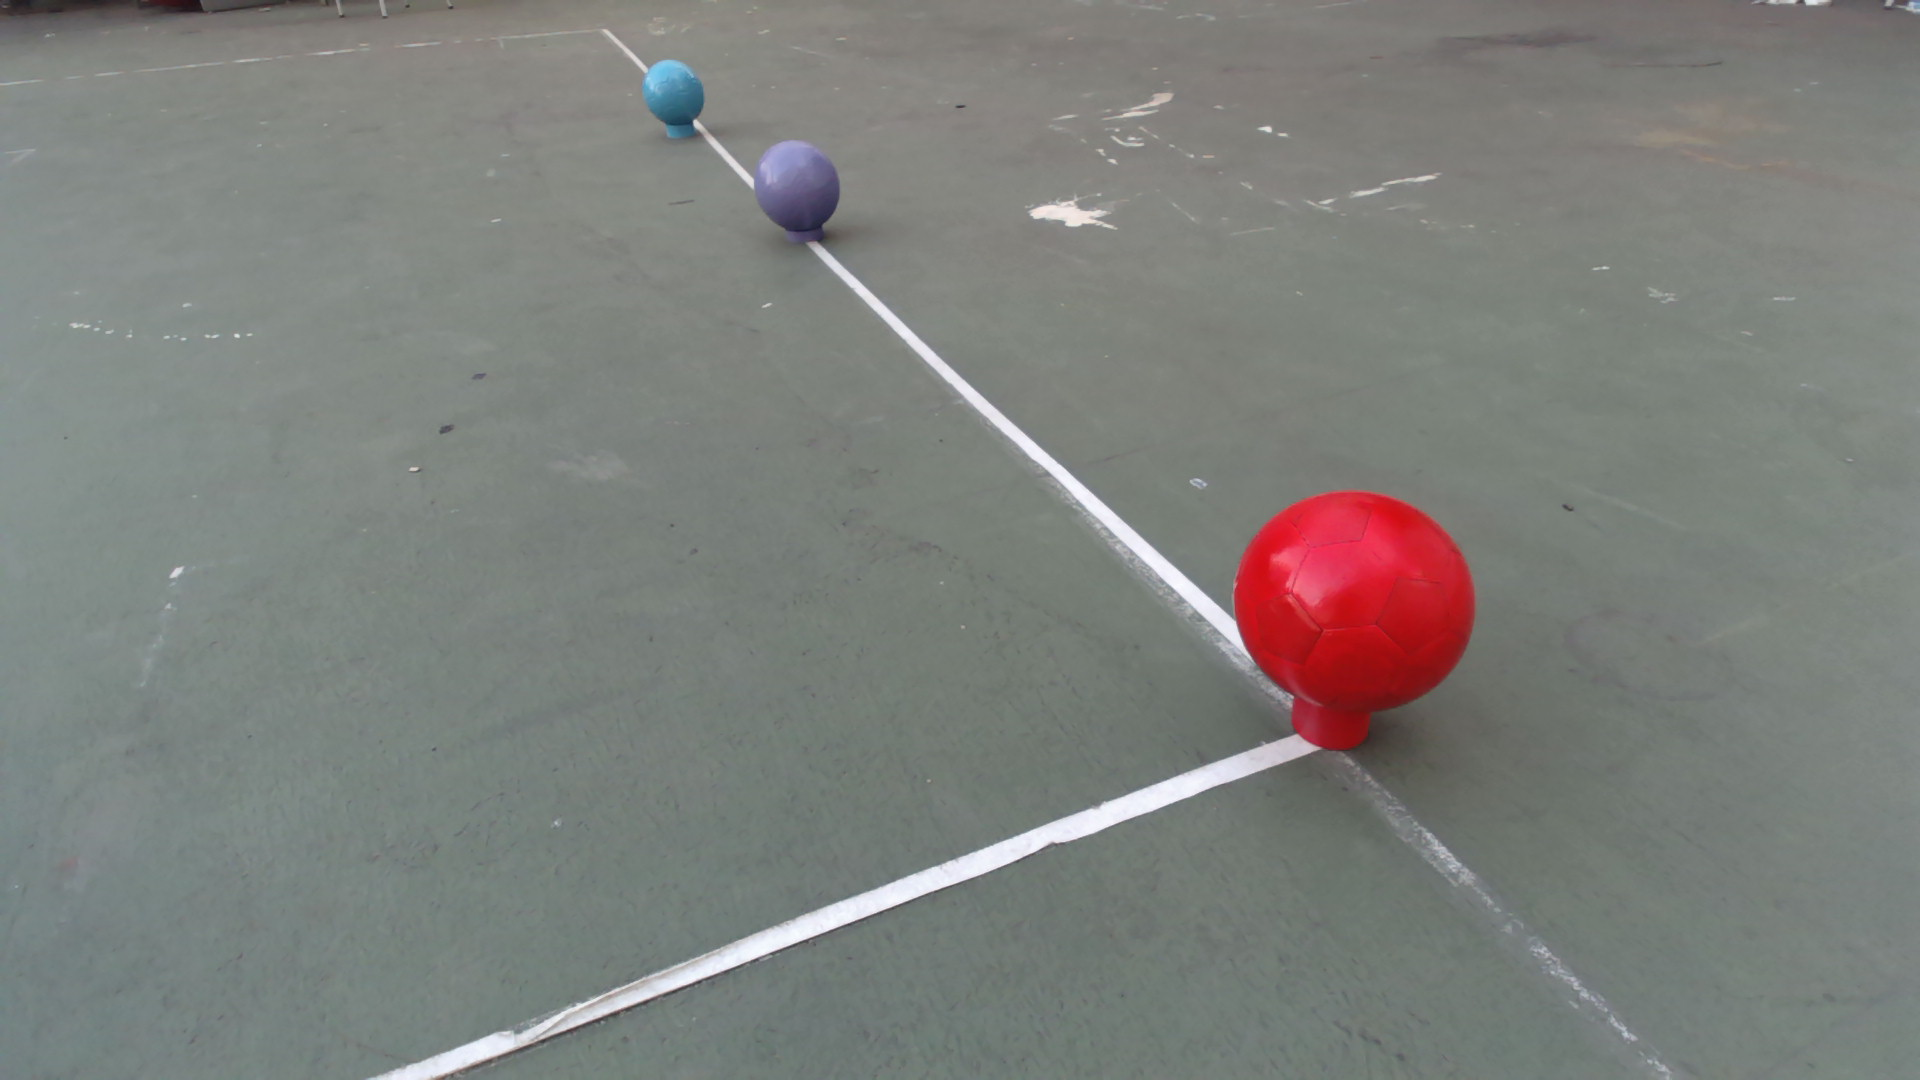Blue ball: (641, 57, 705, 127)
Purple ball: (752, 138, 843, 233)
Red ball: (1230, 491, 1480, 719)
